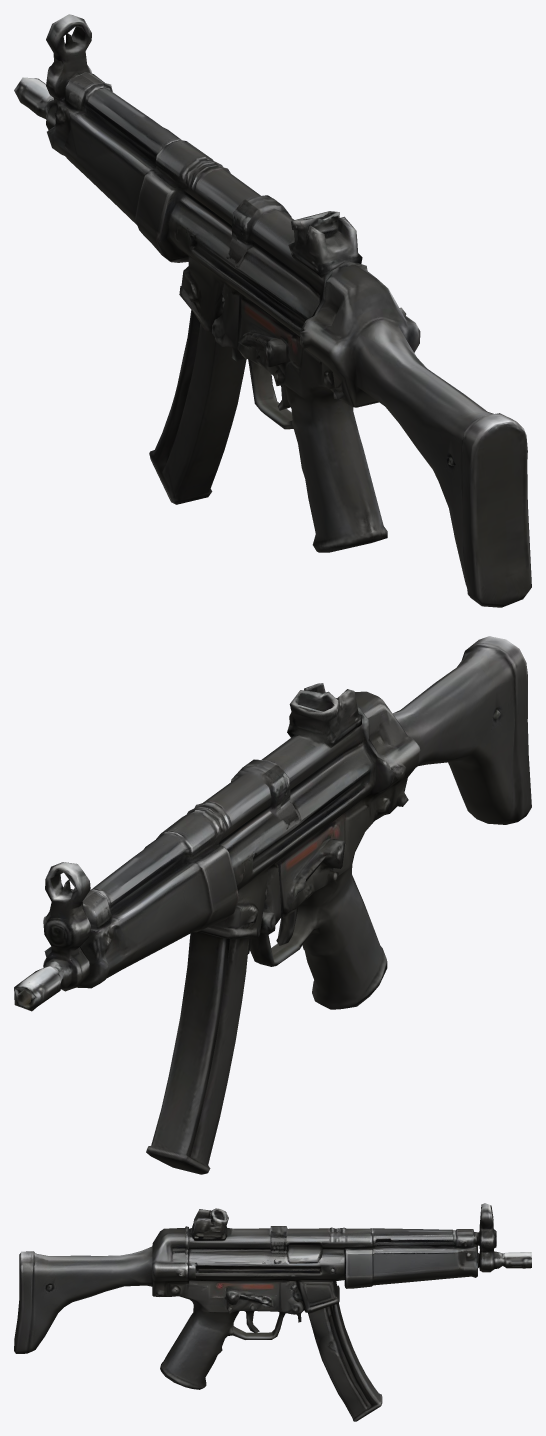
3 renders of one model, top to bottom at view 1: azimuth 30°, elevation 25°; view 2: azimuth 150°, elevation 25°; view 3: azimuth 270°, elevation 25°, orthographic. The views are drawn at different scales.
Visible parts, largest first — view 1: tripo_node_3bf6f017-5be4-4f89-95ba-db54be8119d1; view 2: tripo_node_3bf6f017-5be4-4f89-95ba-db54be8119d1; view 3: tripo_node_3bf6f017-5be4-4f89-95ba-db54be8119d1.
Part boxes in pixels (x1=…): tripo_node_3bf6f017-5be4-4f89-95ba-db54be8119d1: x1=14, y1=14, x2=531, y2=607; tripo_node_3bf6f017-5be4-4f89-95ba-db54be8119d1: x1=14, y1=636, x2=531, y2=1174; tripo_node_3bf6f017-5be4-4f89-95ba-db54be8119d1: x1=14, y1=1203, x2=531, y2=1421.
Bounding box in the file's own units: 0.123 × 0.4554 × 1.
Materials: 1 (1 with a texture image).
